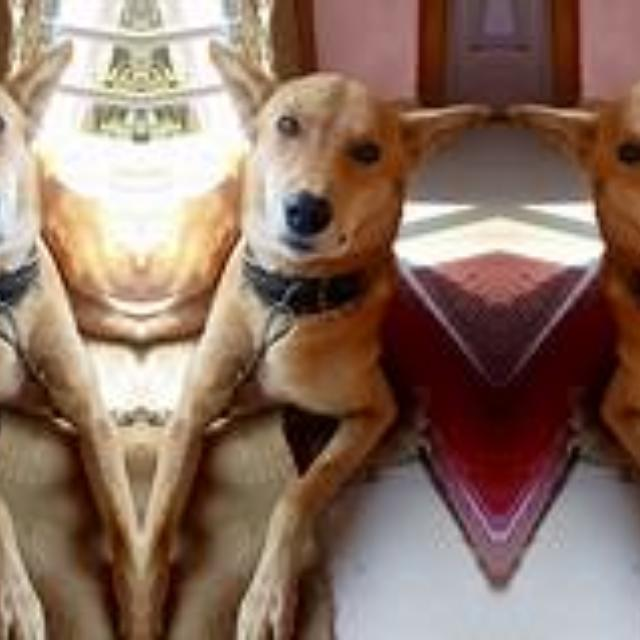dog: (154, 31, 442, 476), (0, 30, 126, 475), (554, 30, 640, 475)
